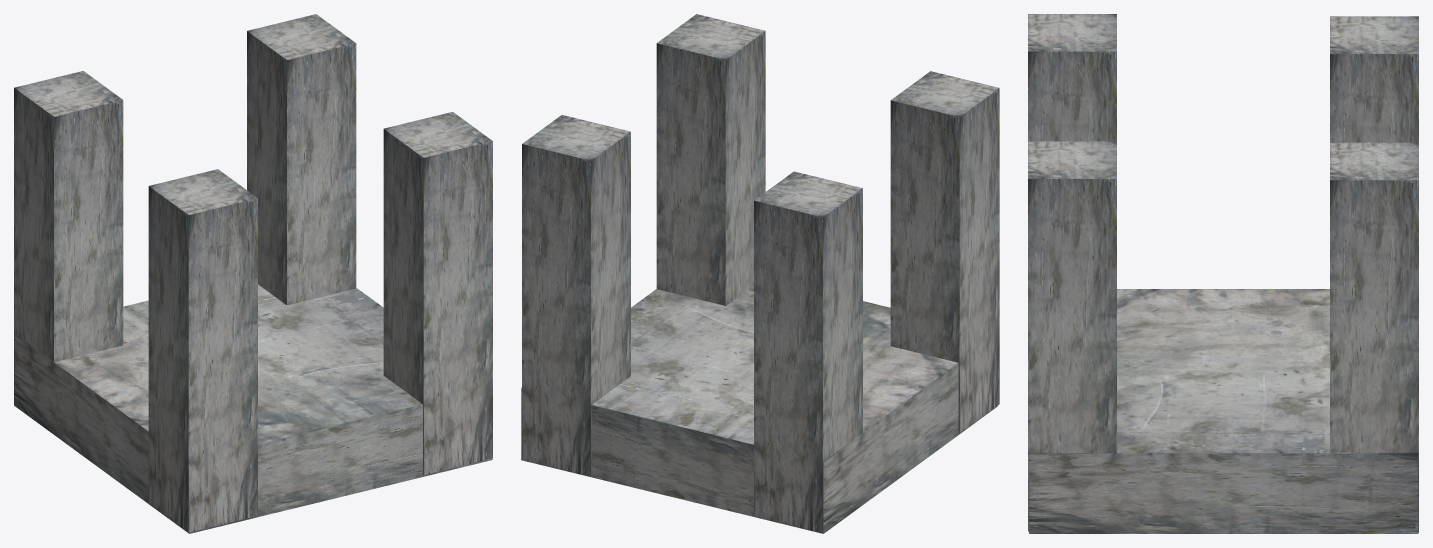
File: Lueftungsschacht_04NEU.fbx
3 renders of one model, left to right at view 1: azimuth 30°, elevation 25°; view 2: azimuth 150°, elevation 25°; view 3: azimuth 270°, elevation 25°, orthographic. The views are drawn at different scales.
Parts seen in each view (by area): view 1: pCube32; view 2: pCube32; view 3: pCube32.
Part boxes in pixels (bbox=[...]): pCube32: bbox=[14, 14, 492, 533]; pCube32: bbox=[521, 14, 999, 533]; pCube32: bbox=[1028, 14, 1418, 533].
Size of the model in its own units: 17.57 by 17.61 by 17.58.
1 material, 1 textured.
